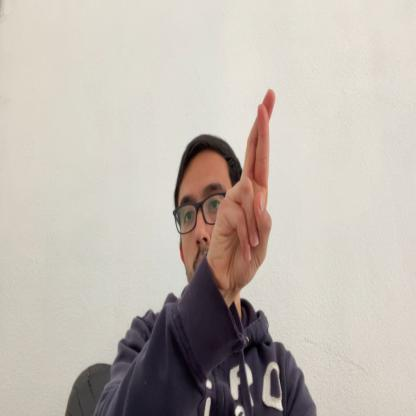R: (209, 88, 277, 290)
